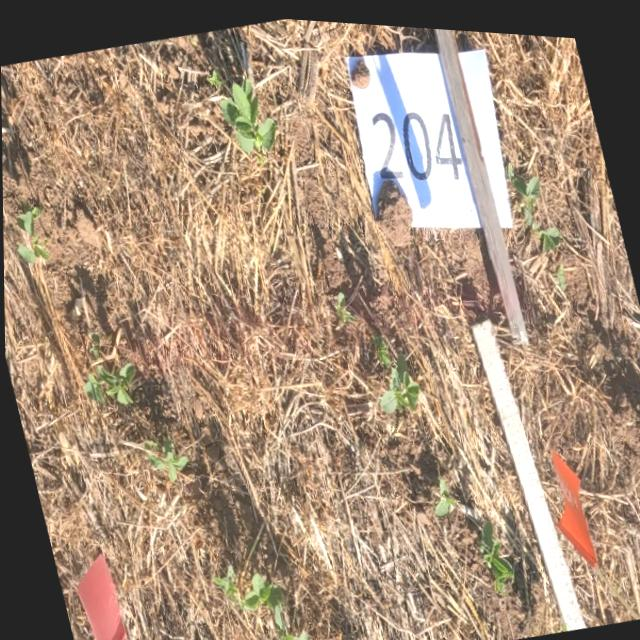soy_plant: (213, 565, 307, 640), (508, 156, 559, 242), (220, 75, 275, 147), (372, 328, 419, 408), (476, 513, 513, 587), (82, 361, 134, 403), (15, 204, 47, 262), (144, 436, 187, 479), (432, 472, 457, 511), (333, 286, 354, 323), (554, 255, 575, 281), (207, 66, 222, 85), (89, 331, 99, 356)
